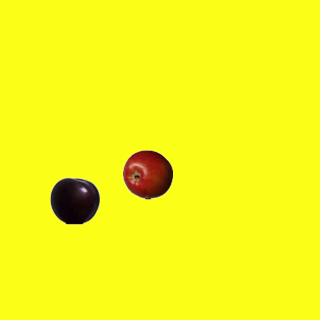Apple Braeburn: (122, 149, 172, 199)
Cherry Wax Black: (49, 175, 99, 225)
